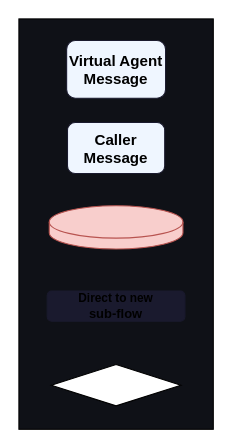
Image size: 232x448. Some labels were removed from this diagram. Here are the shapes that lost their labels. From the top down, the centre of each, then its label:
At (x=115, y=227): "System Action".
At (x=115, y=384): "Decision".
